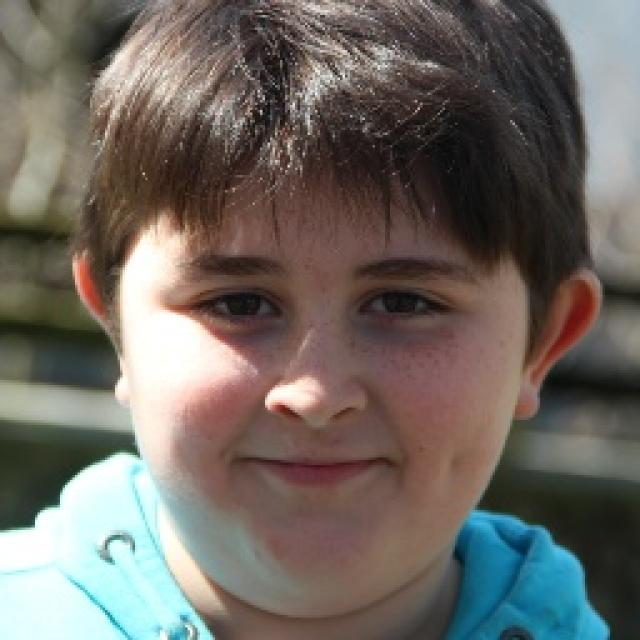earlobe: (515, 263, 602, 423), (69, 247, 132, 408)
